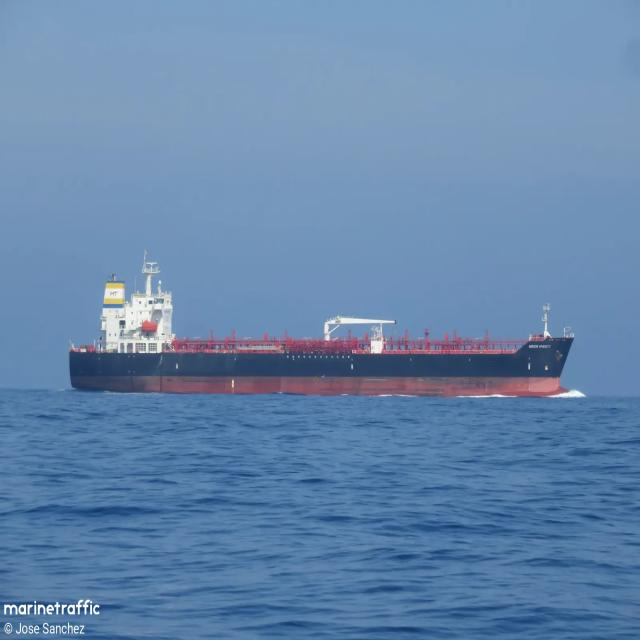Tanker: (69, 258, 574, 396)
